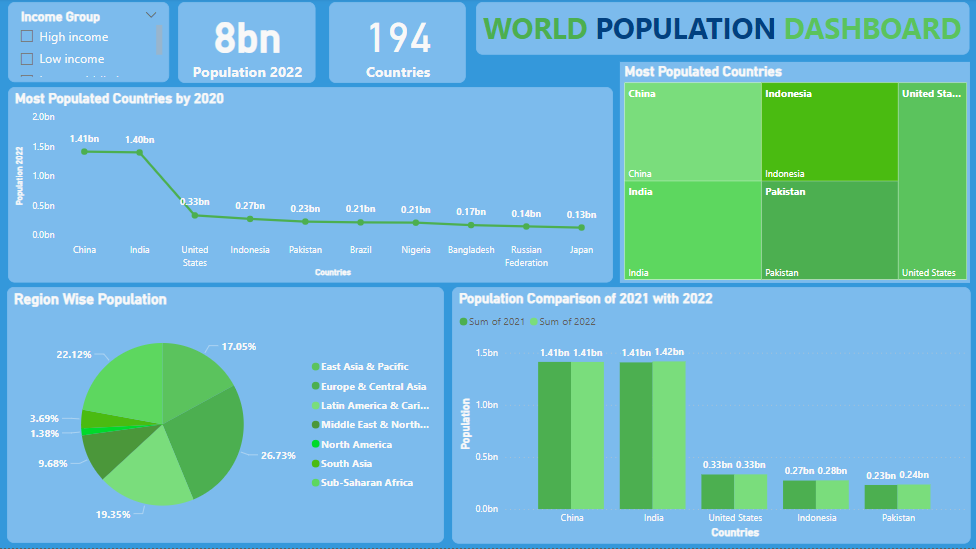

Layout of this report page (visuals, bound fields, positions):
{"tool":"powerbi","page":{"name":"Page 1","canvas":[1280,720],"ordinal":0},"visuals":[{"type":"textbox","box":[606.1,5.2,663.7,69.4],"z":0},{"type":"card","fields":{"Values":["CountNonNull(Data.Country Name)"]},"box":[417.6,5.2,178,106],"z":1000},{"type":"card","fields":{"Values":["Sum(Data.2022)"]},"box":[230.4,5.2,179.3,106],"z":2000},{"type":"lineChart","title":"Most Populated Countries by 2020","fields":{"Category":["Data.Country Name"],"Y":["Sum(Data.2020)"]},"box":[11.5,116.4,791.8,255.7],"z":3000},{"type":"clusteredColumnChart","title":"Population Comparison of 2021 with 2022","fields":{"Category":["Data.Country Name"],"Y":["Sum(Data.2021)","Sum(Data.2022)"]},"box":[593.4,378.7,678.7,336.1],"z":4000},{"type":"treemap","title":"Most Populated Countries","fields":{"Details":["Data.Country Name"],"Group":["Data.Country Name"],"Values":["CountNonNull(Data.Country Name)"]},"box":[812.5,83.9,457.8,288.7],"z":5000},{"type":"slicer","fields":{"Values":["Metadata - Countries.IncomeGroup"]},"box":[11.8,5.2,210.8,104.7],"z":6000},{"type":"pieChart","title":"Region Wise Population","fields":{"Y":["CountNonNull(Metadata - Countries.Region)"],"Series":["Metadata - Countries.Region"]},"box":[11,378.1,571.9,335.5],"z":7000}]}

Visuals, with their boxes in screenshot pixels (x1, y1, x2, y2), scaled from the page's 1280x720 canvas onto the 976x549 screenshot:
textbox: l=462, t=4, r=968, b=57
card - CountNonNull(Data.Country Name): l=318, t=4, r=454, b=85
card - Sum(Data.2022): l=176, t=4, r=312, b=85
"Most Populated Countries by 2020" lineChart: l=9, t=89, r=613, b=284
"Population Comparison of 2021 with 2022" clusteredColumnChart: l=452, t=289, r=970, b=545
"Most Populated Countries" treemap: l=620, t=64, r=969, b=284
slicer - Metadata - Countries.IncomeGroup: l=9, t=4, r=170, b=84
"Region Wise Population" pieChart: l=8, t=288, r=444, b=544
